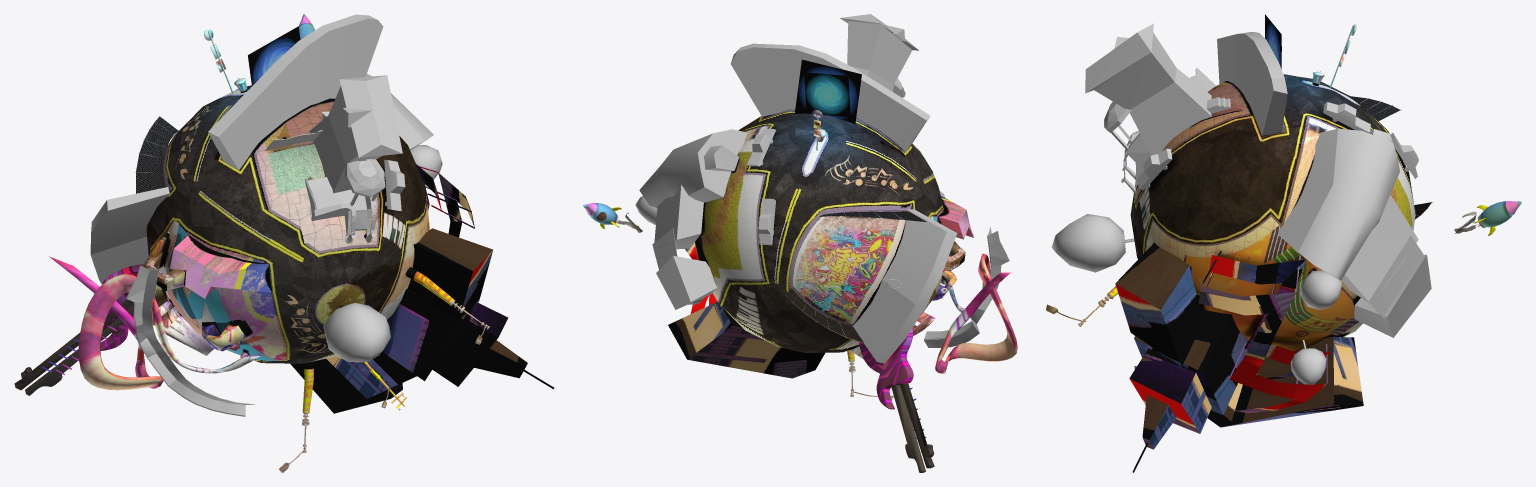
Rendered from Motown.fbx.
The picture shows the model from 3 angles, left to right: view 1: azimuth 30°, elevation 25°; view 2: azimuth 150°, elevation 25°; view 3: azimuth 270°, elevation 25°; orthographic projection. The views are drawn at different scales.
Visible parts, largest first — view 1: globo.001, ESCOLA, Skate.001, Casa1, Muro.001, basquete.001, Arvores, Instrument.001, globo.002, Props.001, Wall.003, CASA02.001 (+1 smaller); view 2: globo.001, CASA02.001, basquete.001, Muro.001, ESCOLA, Skate.001, Casa1, globo.002, Wall.003, Instrument.001, Carros, Foguete.002 (+1 smaller); view 3: globo.001, ESCOLA, CASA02.001, Casa1, Arvores, Muro.001, Carros, Foguete.002, Props.001, basquete.001, Wall.003.
Part boxes in pixels (x1=…): globo.001: x1=146, y1=85, x2=429, y2=363; ESCOLA: x1=290, y1=164, x2=554, y2=413; Skate.001: x1=49, y1=232, x2=272, y2=390; Casa1: x1=265, y1=75, x2=402, y2=243; Muro.001: x1=208, y1=14, x2=383, y2=169; basquete.001: x1=90, y1=116, x2=178, y2=284; Arvores: x1=323, y1=145, x2=442, y2=362; Instrument.001: x1=126, y1=265, x2=254, y2=416; globo.002: x1=14, y1=264, x2=143, y2=395; Props.001: x1=204, y1=29, x2=489, y2=472; Wall.003: x1=248, y1=26, x2=300, y2=85; CASA02.001: x1=366, y1=74, x2=433, y2=150; globo.001: x1=695, y1=109, x2=943, y2=352; CASA02.001: x1=639, y1=129, x2=747, y2=309; basquete.001: x1=785, y1=209, x2=957, y2=363; Muro.001: x1=731, y1=43, x2=930, y2=151; ESCOLA: x1=668, y1=242, x2=824, y2=378; Skate.001: x1=847, y1=196, x2=1017, y2=373; Casa1: x1=840, y1=14, x2=918, y2=97; globo.002: x1=859, y1=329, x2=934, y2=472; Wall.003: x1=794, y1=59, x2=861, y2=123; Instrument.001: x1=924, y1=227, x2=1009, y2=347; Carros: x1=747, y1=128, x2=775, y2=245; Foguete.002: x1=583, y1=203, x2=621, y2=228; globo.001: x1=1130, y1=74, x2=1415, y2=351; ESCOLA: x1=1115, y1=242, x2=1363, y2=472; CASA02.001: x1=1278, y1=128, x2=1431, y2=337; Casa1: x1=1085, y1=23, x2=1230, y2=193; Arvores: x1=1051, y1=214, x2=1341, y2=384; Muro.001: x1=1217, y1=32, x2=1287, y2=135; Carros: x1=1137, y1=102, x2=1418, y2=189; Foguete.002: x1=1474, y1=201, x2=1521, y2=235; Props.001: x1=1046, y1=24, x2=1356, y2=369; basquete.001: x1=1351, y1=96, x2=1432, y2=219; Wall.003: x1=1265, y1=14, x2=1281, y2=68.
Size of the model in its own units: 2804 by 2550 by 2737.
